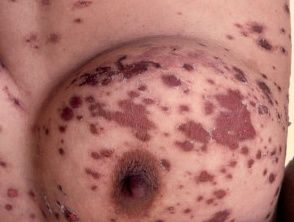SJS-TEN: (42, 35, 288, 222)
